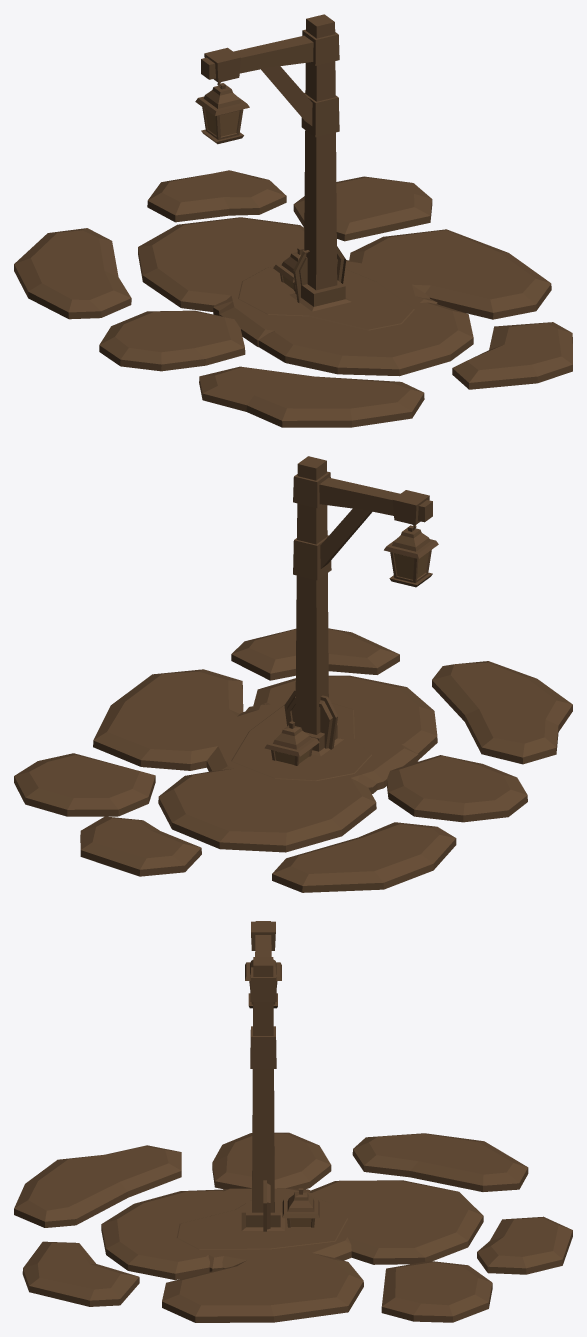
The model's file is light_01.blend11.fbx.
The picture shows the model from 3 angles, top to bottom: view 1: azimuth 30°, elevation 25°; view 2: azimuth 150°, elevation 25°; view 3: azimuth 270°, elevation 25°; orthographic projection. The views are drawn at different scales.
Visible parts, largest first — view 1: Cube.002, Cube.004, Cube.008, Cube.006, Cube.018, Cube.005; view 2: Cube.002, Cube.004, Cube.008, Cube.018, Cube.006, Cube.005; view 3: Cube.002, Cube.004, Cube.008, Cube.018, Cube.006, Cube.005, Cube.014.
Boxes of the visible parts, left/top/right/bottom form: Cube.002: left=14, top=170, right=572, bottom=427; Cube.004: left=195, top=14, right=351, bottom=311; Cube.008: left=238, top=266, right=414, bottom=330; Cube.006: left=219, top=260, right=367, bottom=347; Cube.018: left=273, top=246, right=346, bottom=302; Cube.005: left=213, top=272, right=429, bottom=325; Cube.002: left=14, top=628, right=572, bottom=892; Cube.004: left=293, top=456, right=438, bottom=756; Cube.008: left=231, top=703, right=371, bottom=781; Cube.018: left=264, top=690, right=337, bottom=765; Cube.006: left=206, top=739, right=418, bottom=789; Cube.005: left=226, top=708, right=378, bottom=793; Cube.002: left=14, top=1132, right=572, bottom=1322; Cube.004: left=241, top=921, right=284, bottom=1230; Cube.008: left=176, top=1194, right=347, bottom=1249; Cube.018: left=263, top=1180, right=319, bottom=1231; Cube.006: left=223, top=1188, right=351, bottom=1260; Cube.005: left=217, top=1189, right=310, bottom=1268; Cube.014: left=201, top=1193, right=334, bottom=1271.
Size of the model in its own units: 463 by 366 by 593.
